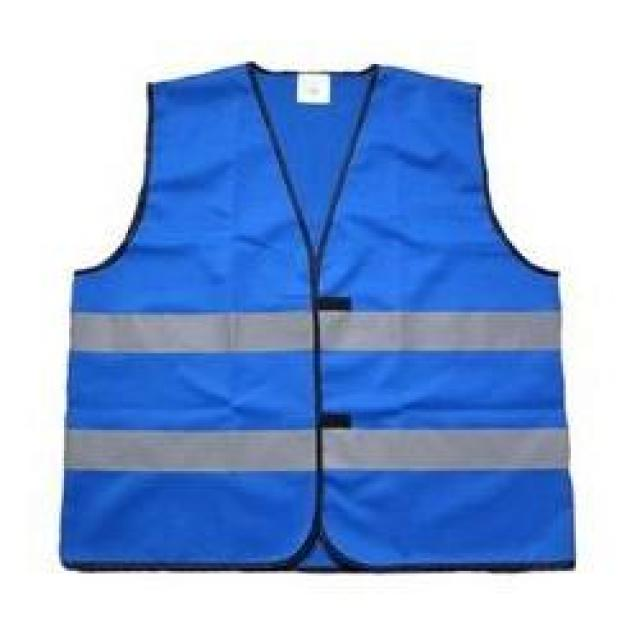Reflective-Jacket: (15, 46, 599, 581)
